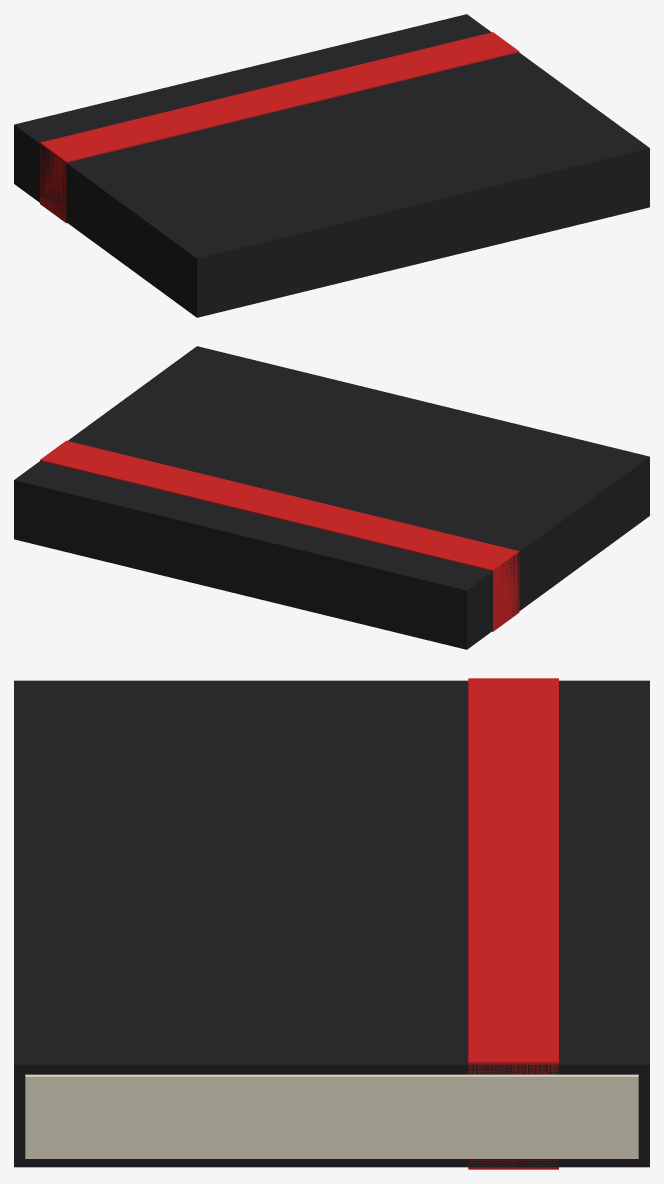
Rendered from fight_notebook.glb.
The picture shows the model from 3 angles, top to bottom: view 1: azimuth 30°, elevation 25°; view 2: azimuth 150°, elevation 25°; view 3: azimuth 270°, elevation 25°; orthographic projection. The views are drawn at different scales.
Visible parts, largest first — view 1: cover_notebook_black, stripe_notebook_stripe; view 2: cover_notebook_black, stripe_notebook_stripe; view 3: cover_notebook_black, pages_notebook_pages, stripe_notebook_stripe.
Boxes of the visible parts, bbox=[...] form: cover_notebook_black: bbox=[14, 14, 649, 317]; stripe_notebook_stripe: bbox=[40, 32, 519, 223]; cover_notebook_black: bbox=[14, 346, 649, 649]; stripe_notebook_stripe: bbox=[40, 440, 519, 631]; cover_notebook_black: bbox=[14, 680, 649, 1167]; pages_notebook_pages: bbox=[25, 1074, 638, 1158]; stripe_notebook_stripe: bbox=[468, 678, 558, 1169].
Size of the model in its own units: 0.201 by 0.026 by 0.14.
